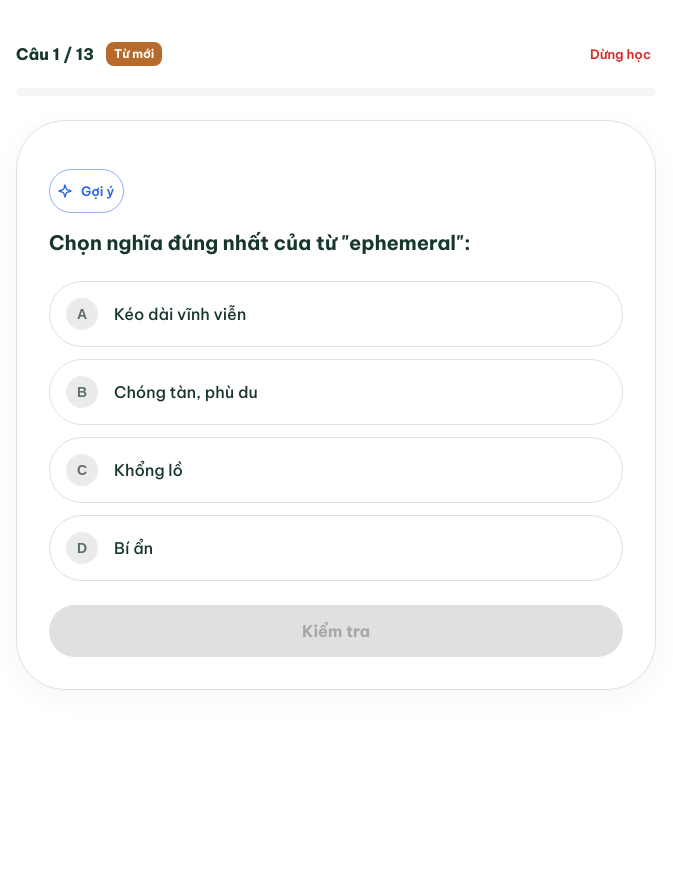
Test: Tutor UI Features › runs multiple choice question flow with hint and submission feedback
The width and height of the screenshot is (673, 885).
Expected: the heading "Chọn nghĩa đúng nhất của từ \"ephemeral\":" is shown, [49, 230, 471, 255]
Expected: the heading "Câu 1 / 13" is shown, [16, 40, 94, 68]
# Open hint
Click the button "Gợi ý" at (87, 191), box [49, 169, 124, 213]
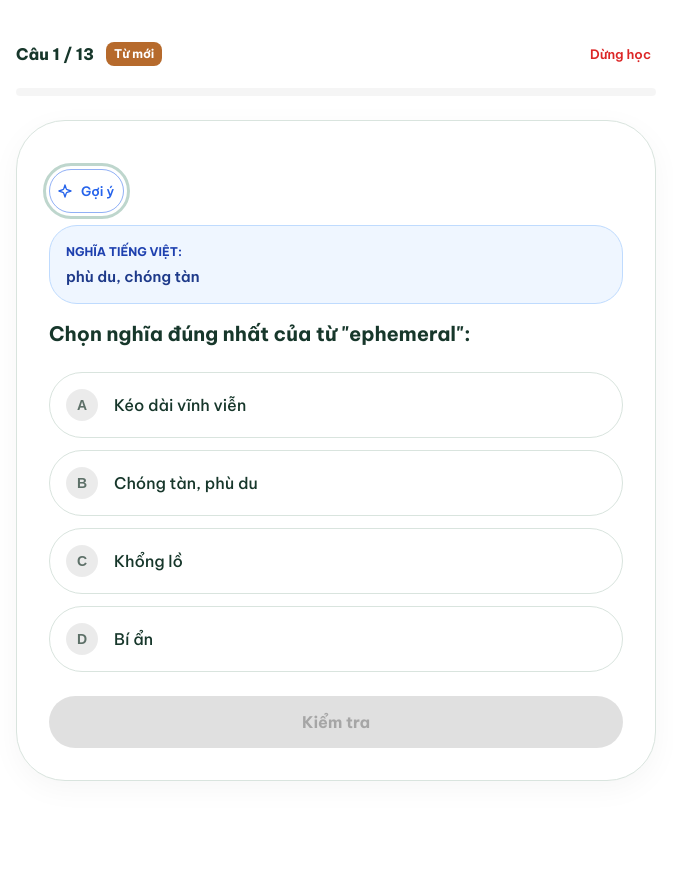
Expected: the text "phù du, chóng tàn" is shown, [66, 267, 200, 286]
# Select option B
Click the radio button with aria-label "Lựa chọn B" at (82, 483), box [49, 450, 623, 516]
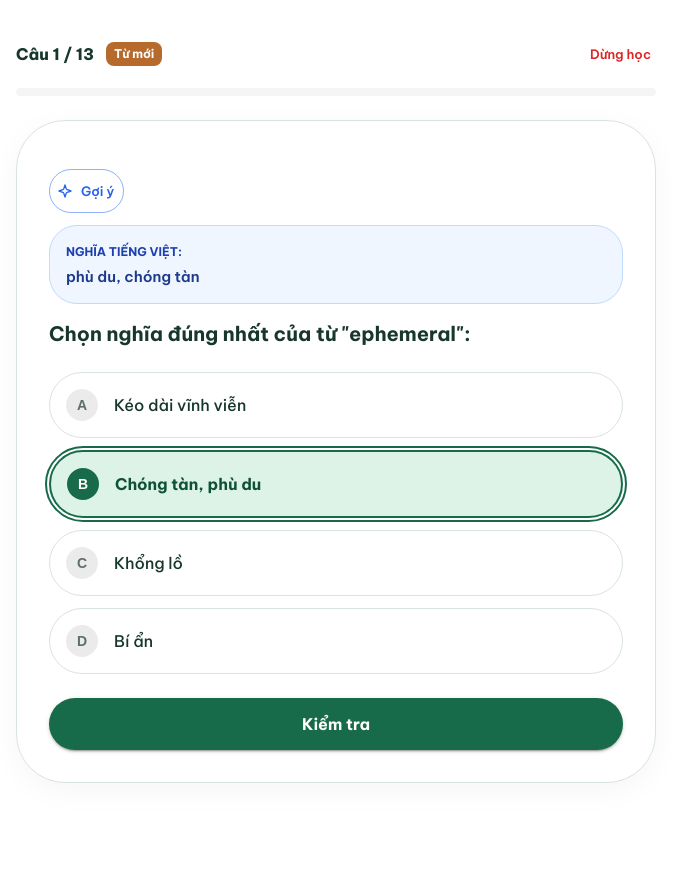
# Submit answer
Click the button "Kiểm tra" at (336, 724), box [49, 698, 623, 750]
(page scrolled)
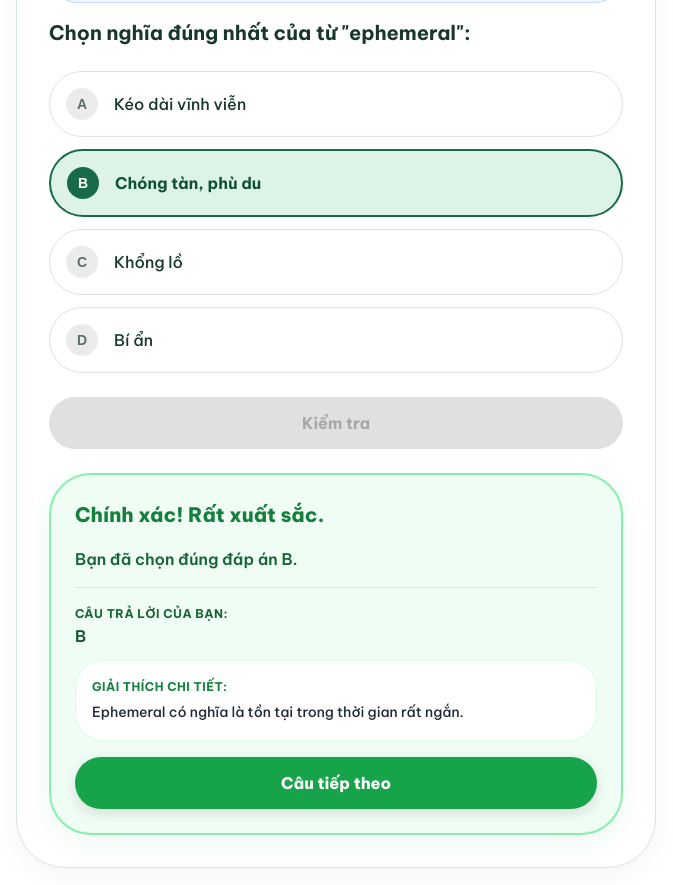
Expected: the heading "Chính xác! Rất xuất sắc." is shown, [75, 502, 324, 527]
Expected: the text "Ephemeral có nghĩa là tồn tại trong thời gian rất ngắn." is shown, [92, 703, 464, 721]
Expected: the button "Câu tiếp theo" is shown, [75, 757, 597, 809]
